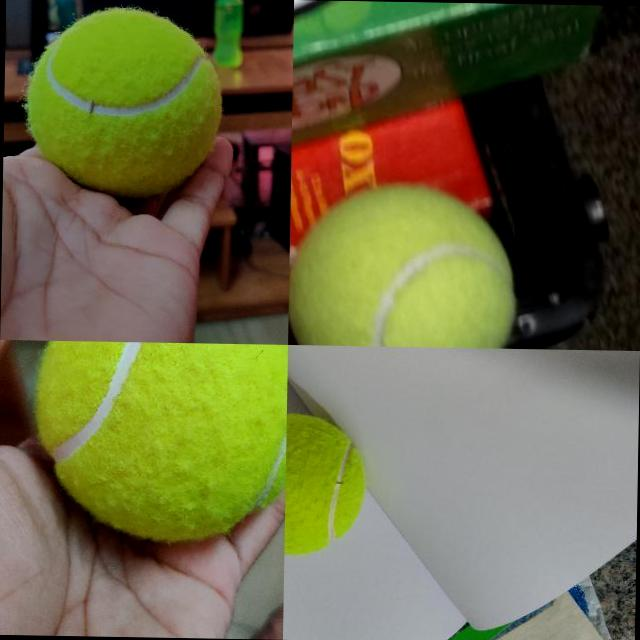Tennis Ball: (32, 340, 286, 543), (288, 180, 520, 348), (26, 8, 222, 198), (284, 412, 368, 558)
